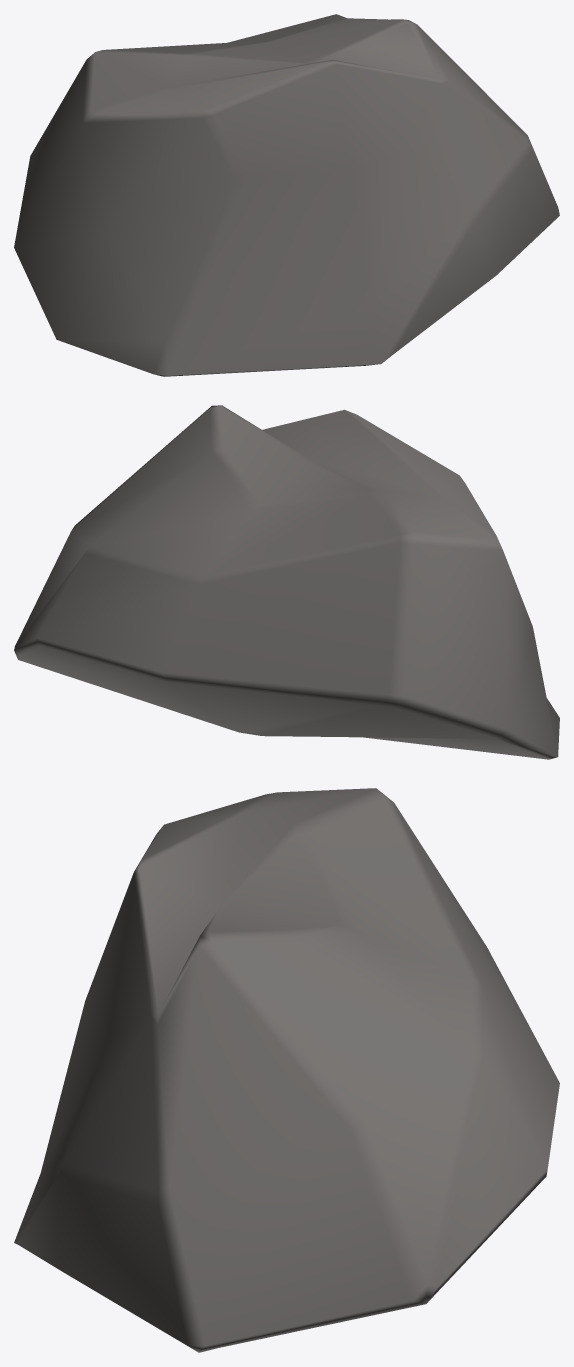
File: _asteroid_09.fbx
3 views of the same model, one above another, from view 1: azimuth 30°, elevation 25°; view 2: azimuth 150°, elevation 25°; view 3: azimuth 270°, elevation 25° (orthographic). The views are drawn at different scales.
Visible parts, largest first — view 1: Аsteroid_09; view 2: Аsteroid_09; view 3: Аsteroid_09.
Boxes of the visible parts, <box> form: Аsteroid_09: <box>14,14,559,376</box>; Аsteroid_09: <box>14,405,559,759</box>; Аsteroid_09: <box>14,788,559,1352</box>.
Size of the model in its own units: 649 by 356 by 454.
1 material, 1 textured.
